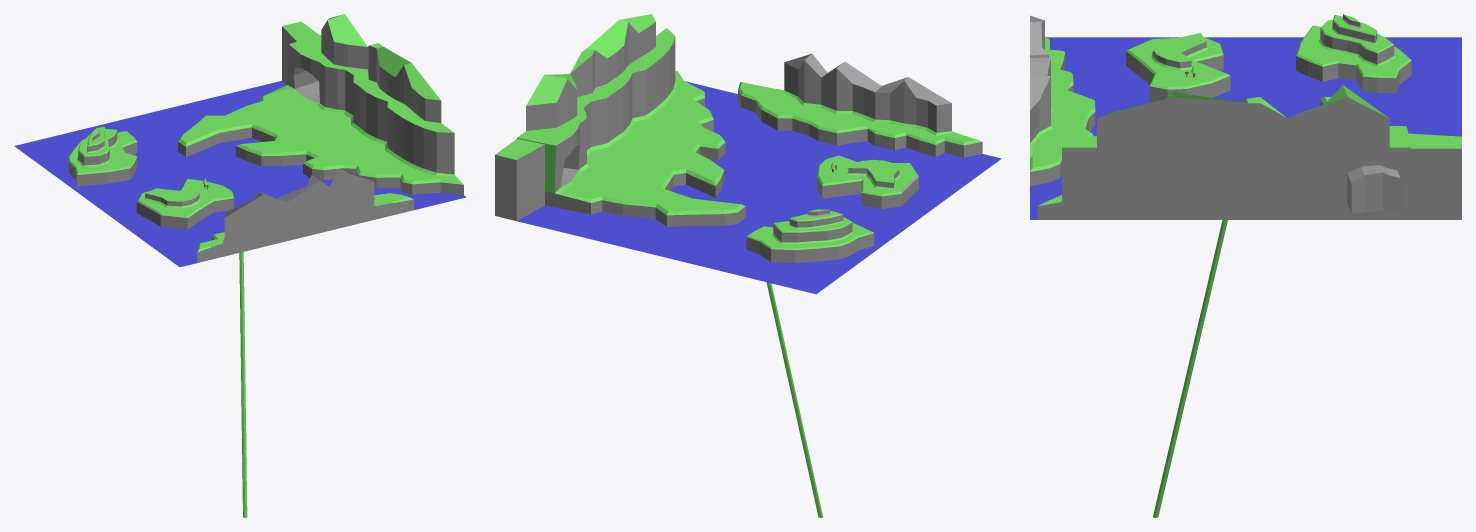
The model's file is Premier.fbx.
3 views of the same model, side by side, from view 1: azimuth 30°, elevation 25°; view 2: azimuth 150°, elevation 25°; view 3: azimuth 270°, elevation 25° (orthographic). The views are drawn at different scales.
Visible parts, largest first — view 1: Plan; view 2: Plan; view 3: Plan.
Boxes of the visible parts, x1,y1,x2,y2 form: Plan: (14,14,466,517); Plan: (495,14,1001,517); Plan: (1030,14,1461,517).
Size of the model in its own units: 15904 by 20306 by 15000.
